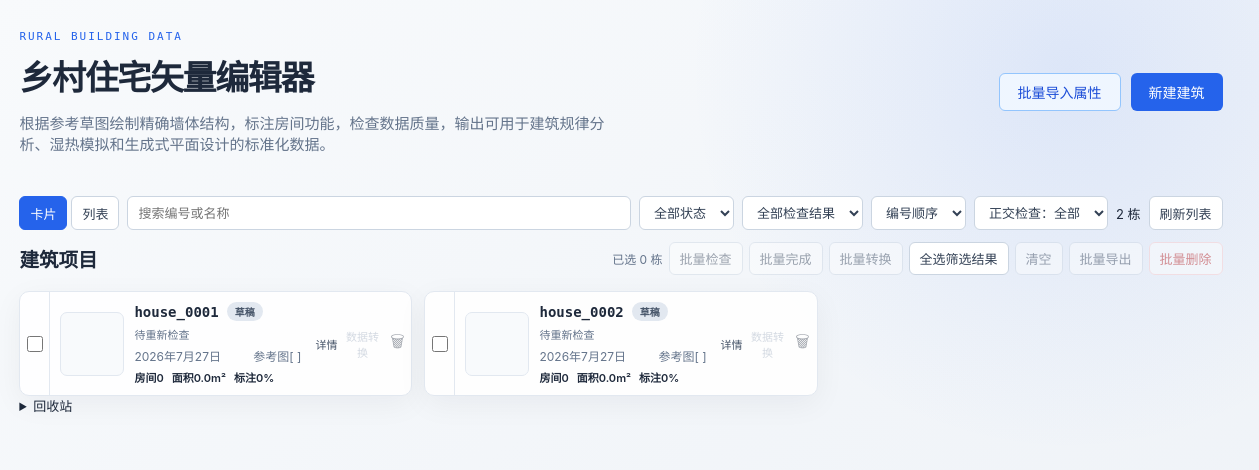
ProjectHome › selects cards without opening them and reports partial batch deletion
Click the checkbox named "选择 house_0001" at (35, 344), box [27, 336, 43, 352]
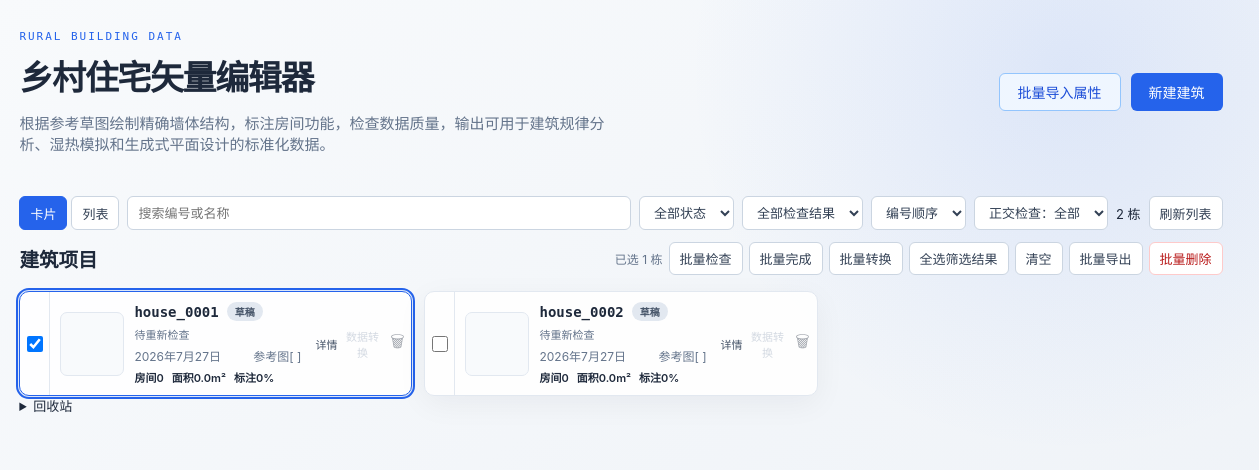
Click the checkbox named "选择 house_0002" at (440, 344), box [432, 336, 448, 352]
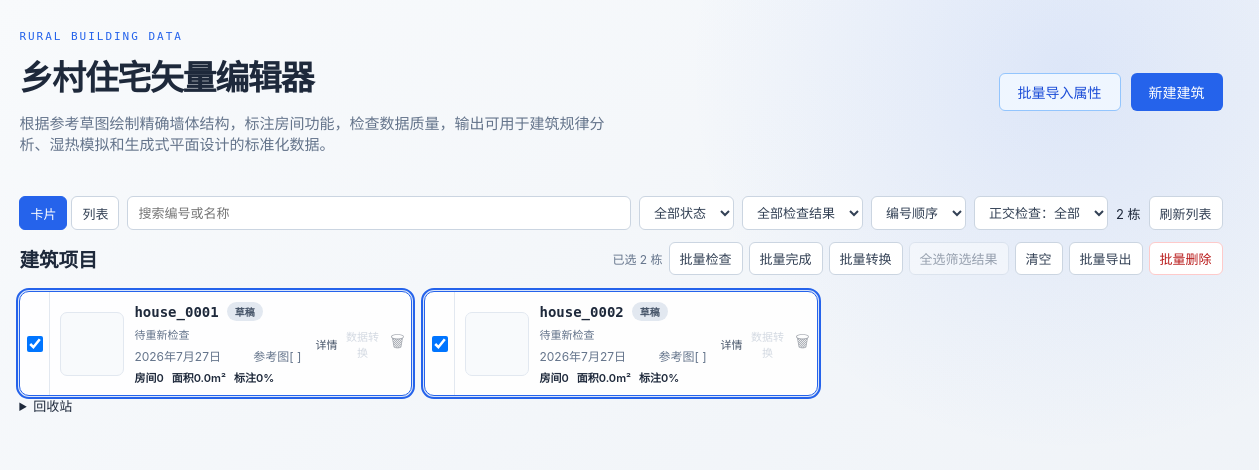
Now the text "已选 2 栋" is shown, box [612, 250, 662, 267]
Click the button "批量删除" at (1186, 258), box [1149, 242, 1223, 275]
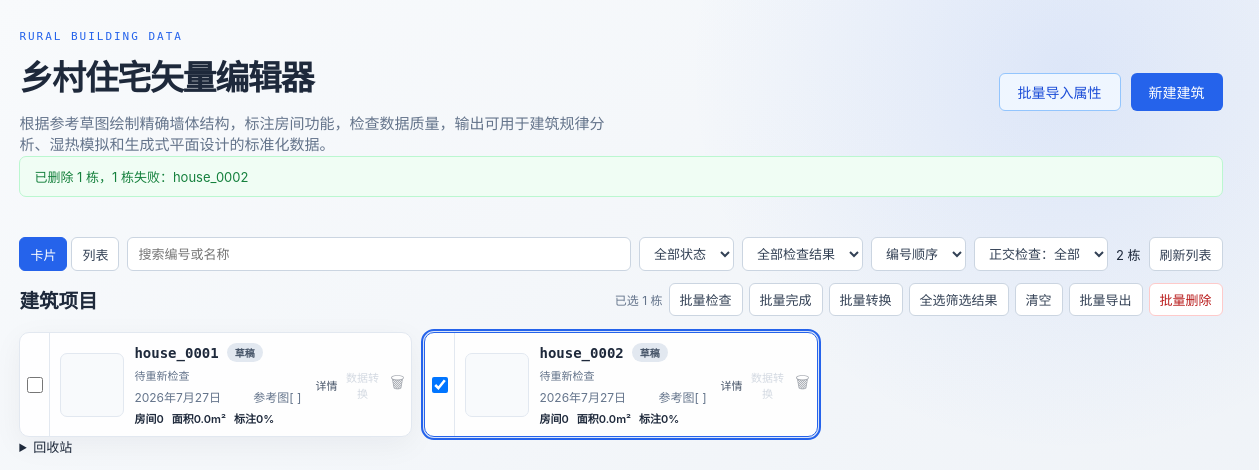
Now the text "已删除 1 栋，1 栋失败：house_0002" is shown, box [19, 156, 1223, 197]
